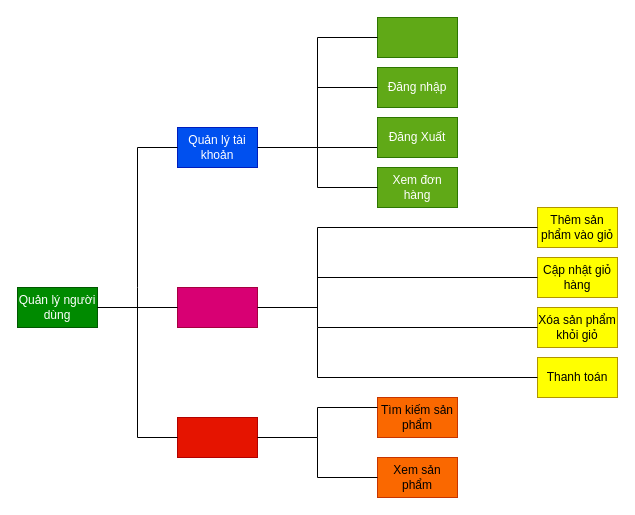
Some shapes in this 635 by 515 pixel diagram are drawn without their labels. The shapes that lost their labels are listed below. From the top down, each one's centre as x and y in pixels, then its label:
point (417, 37): Tạo tài khoản
point (217, 307): Quản lý giỏ hàng
point (217, 437): Quản lý sản phẩm
